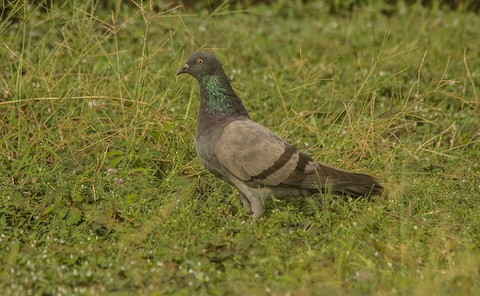pigeon: (176, 48, 386, 223)
